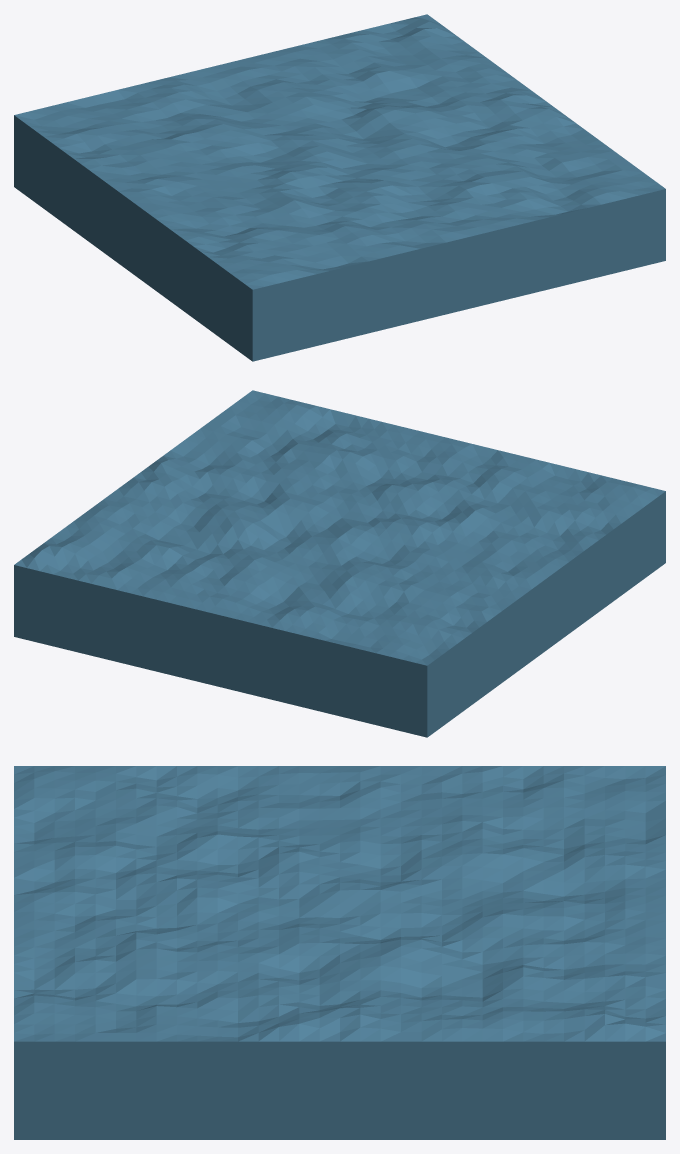
The model's file is Water_02.fbx.
The picture shows the model from 3 angles, top to bottom: view 1: azimuth 30°, elevation 25°; view 2: azimuth 150°, elevation 25°; view 3: azimuth 270°, elevation 25°; orthographic projection. The views are drawn at different scales.
Parts seen in each view (by area): view 1: Cube.002; view 2: Cube.002; view 3: Cube.002.
Boxes of the visible parts, box(x1,y1,x2,y2) form: Cube.002: box(14, 14, 665, 361); Cube.002: box(14, 390, 665, 737); Cube.002: box(14, 766, 665, 1139).
Size of the model in its own units: 185 by 34.05 by 185.
